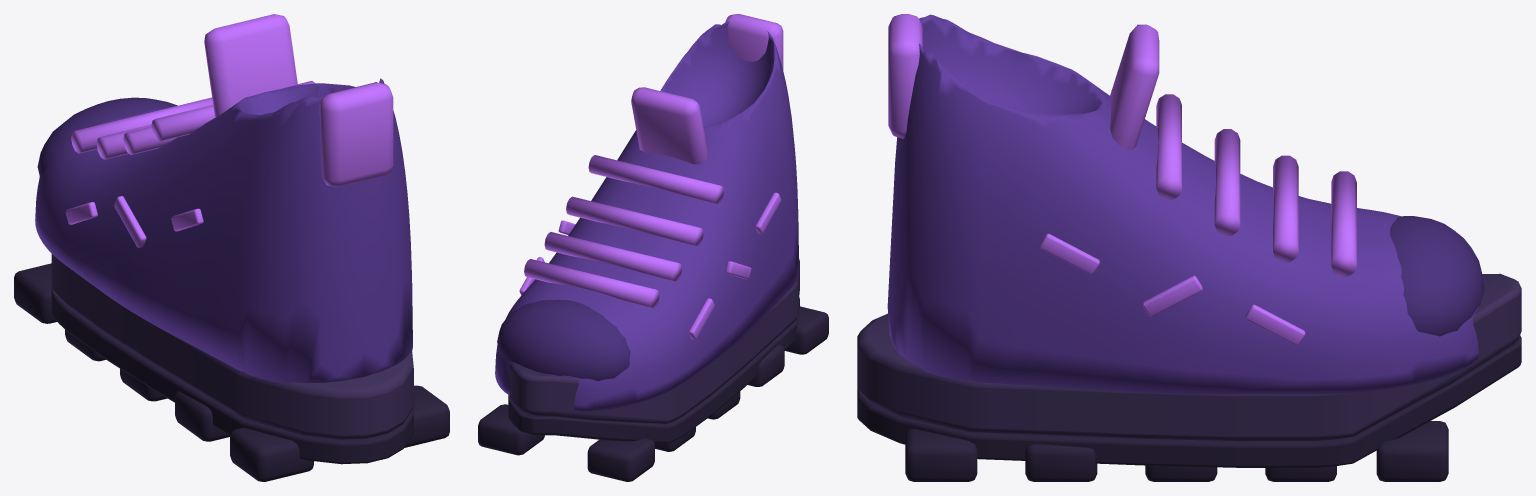
Rendered from shoe_darkmattertreads.fbx.
3 renders of one model, left to right at view 1: azimuth 30°, elevation 25°; view 2: azimuth 150°, elevation 25°; view 3: azimuth 270°, elevation 25°, orthographic. The views are drawn at different scales.
Parts seen in each view (by area): view 1: shoe_darkmattertreads; view 2: shoe_darkmattertreads; view 3: shoe_darkmattertreads.
Boxes of the visible parts, x1,y1,x2,y2 form: shoe_darkmattertreads: (14,14,449,481); shoe_darkmattertreads: (478,14,828,481); shoe_darkmattertreads: (857,14,1521,481).
Size of the model in its own units: 1.59 by 2.64 by 3.88.
1 material, 1 textured.
